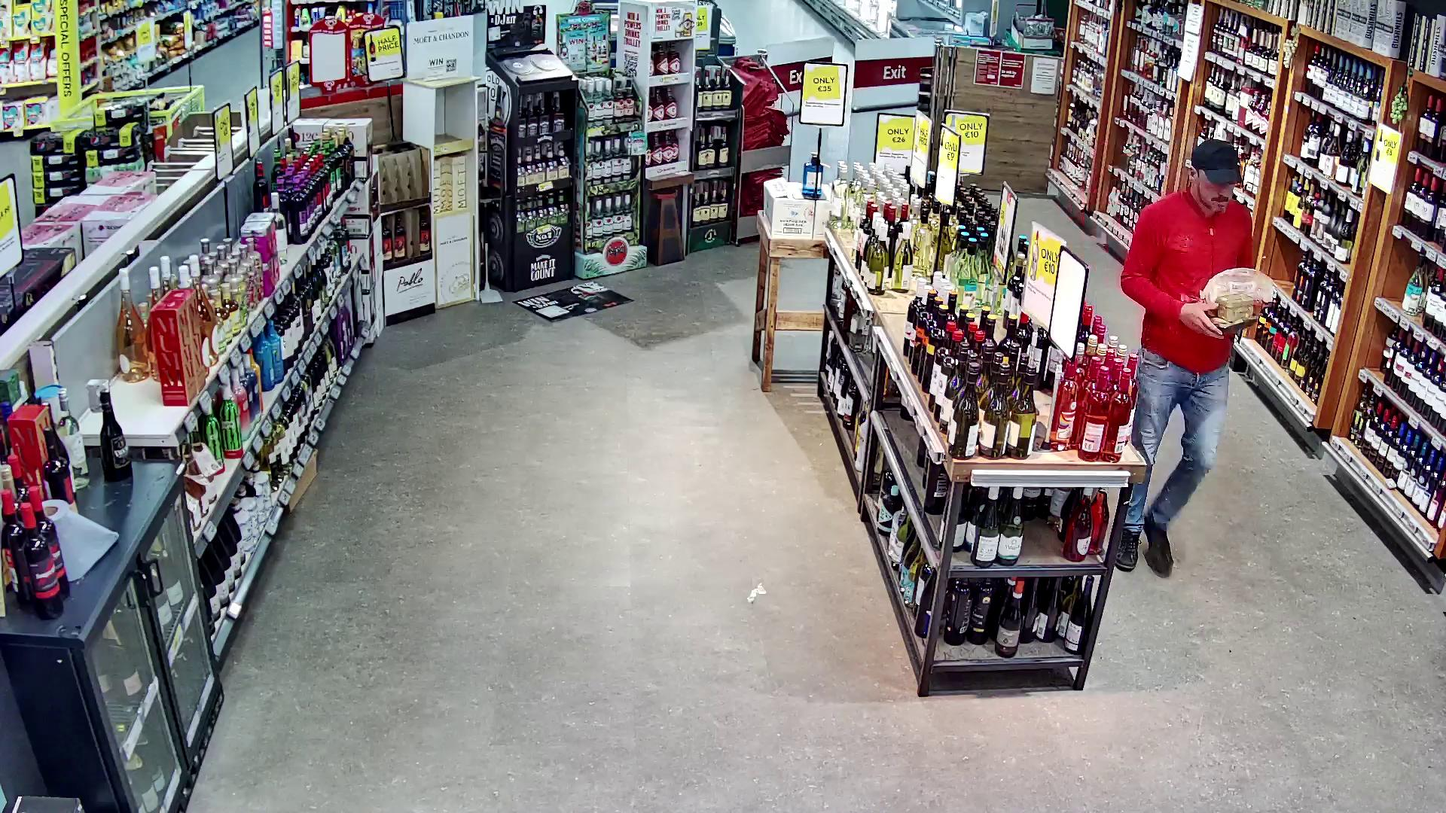carrying-item: (1198, 267, 1278, 332)
person: (1113, 137, 1254, 574)
person-with-carrying-item: (1114, 135, 1279, 575)
